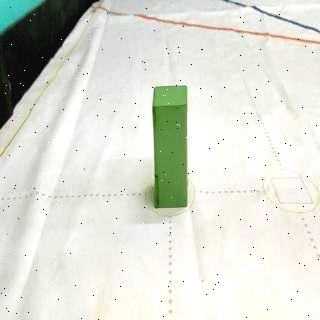greenbox: (152, 82, 190, 210)
